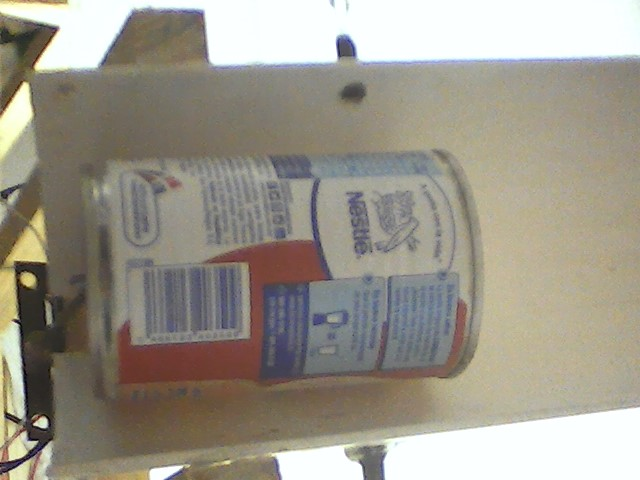lata: (75, 145, 491, 406)
